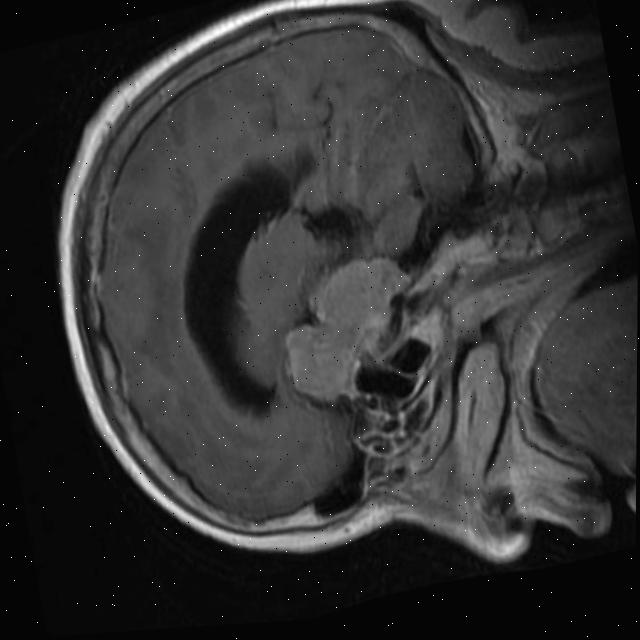Meningioma: (301, 241, 421, 356), (274, 309, 367, 416)
